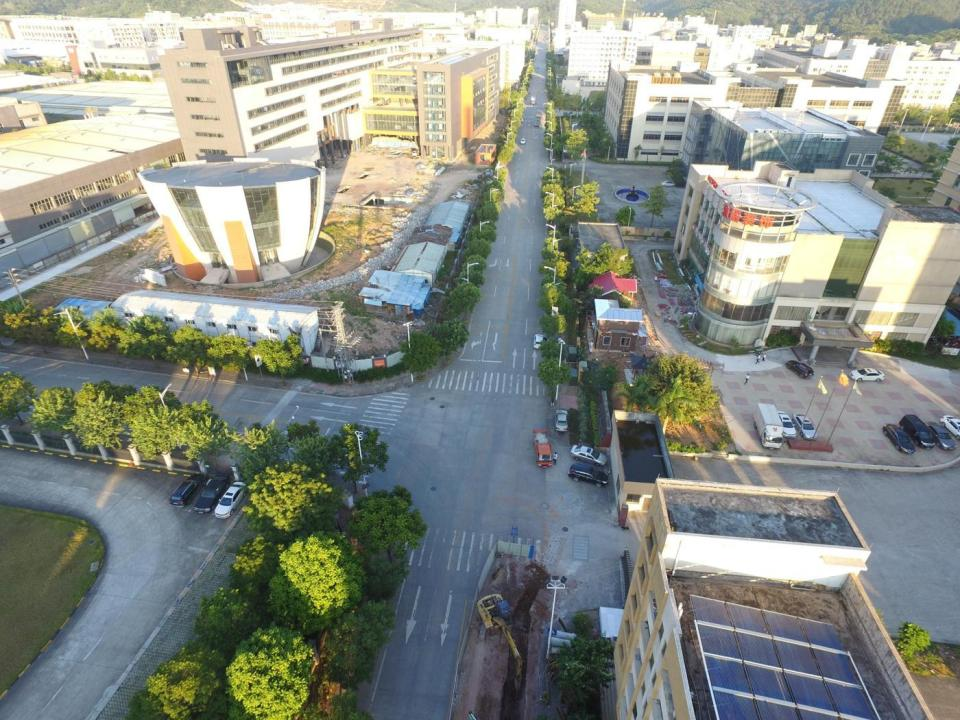bus: (535, 113, 540, 123)
car: (193, 473, 230, 513), (170, 472, 206, 509), (214, 481, 248, 519), (882, 422, 916, 454), (924, 420, 957, 450), (568, 463, 609, 487), (570, 443, 607, 468), (791, 413, 818, 441), (776, 411, 796, 439), (786, 360, 814, 380), (940, 414, 960, 440), (849, 369, 885, 383), (554, 408, 570, 431), (533, 333, 544, 350), (660, 179, 676, 188), (520, 138, 526, 144)
truck: (753, 403, 786, 451), (532, 429, 552, 469), (534, 117, 540, 127), (531, 96, 536, 105)
van: (898, 413, 936, 450), (412, 150, 420, 157)
